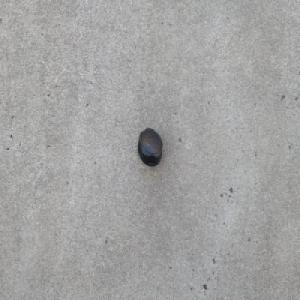FuelCap: (136, 127, 163, 168)
